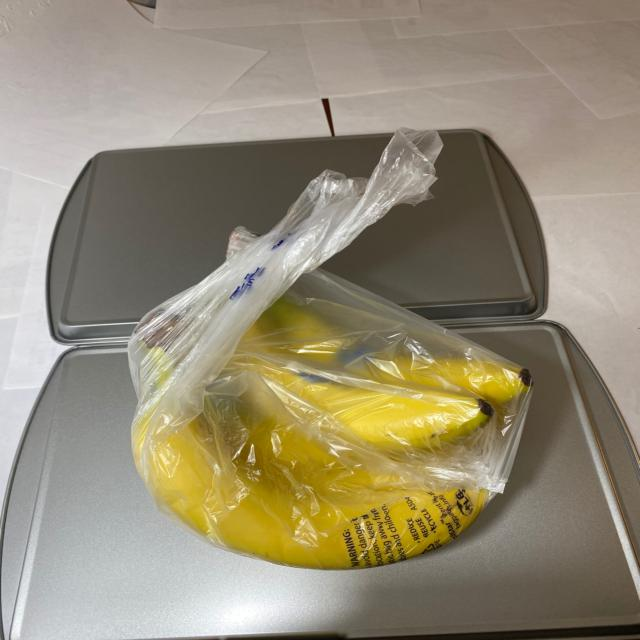banana: (123, 285, 531, 574)
